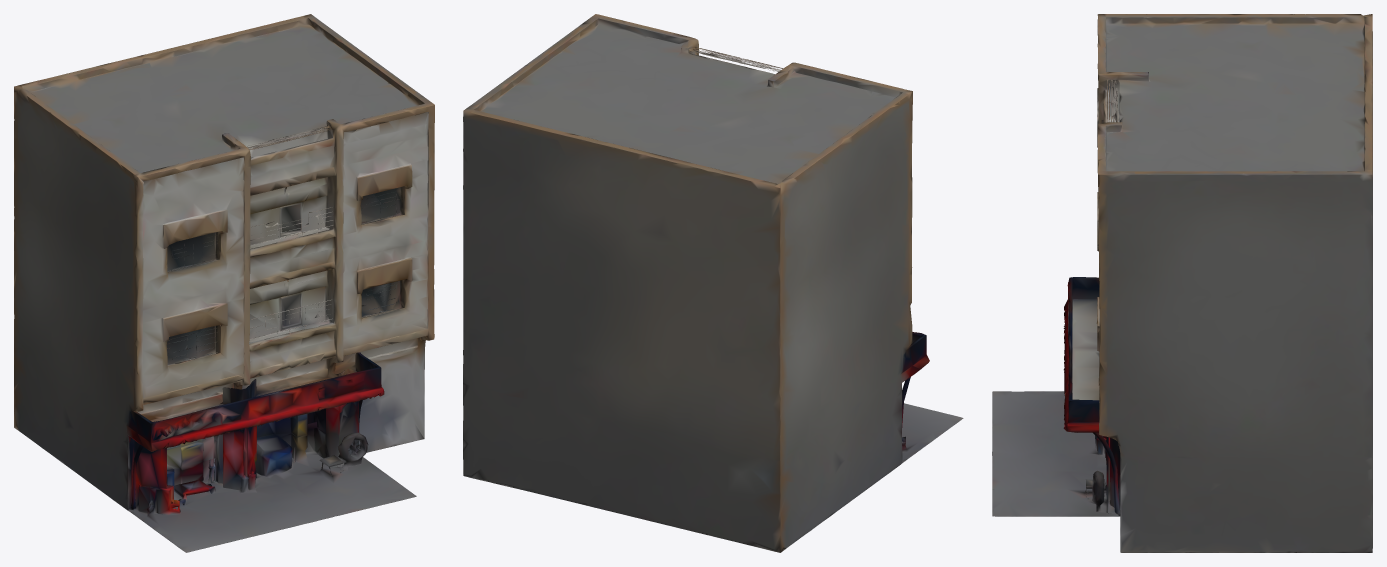
File: repair_shop_mobile.glb
3 renders of one model, left to right at view 1: azimuth 30°, elevation 25°; view 2: azimuth 150°, elevation 25°; view 3: azimuth 270°, elevation 25°, orthographic. The views are drawn at different scales.
Size of the model in its own units: 0.6716 by 0.737 by 0.6709.
